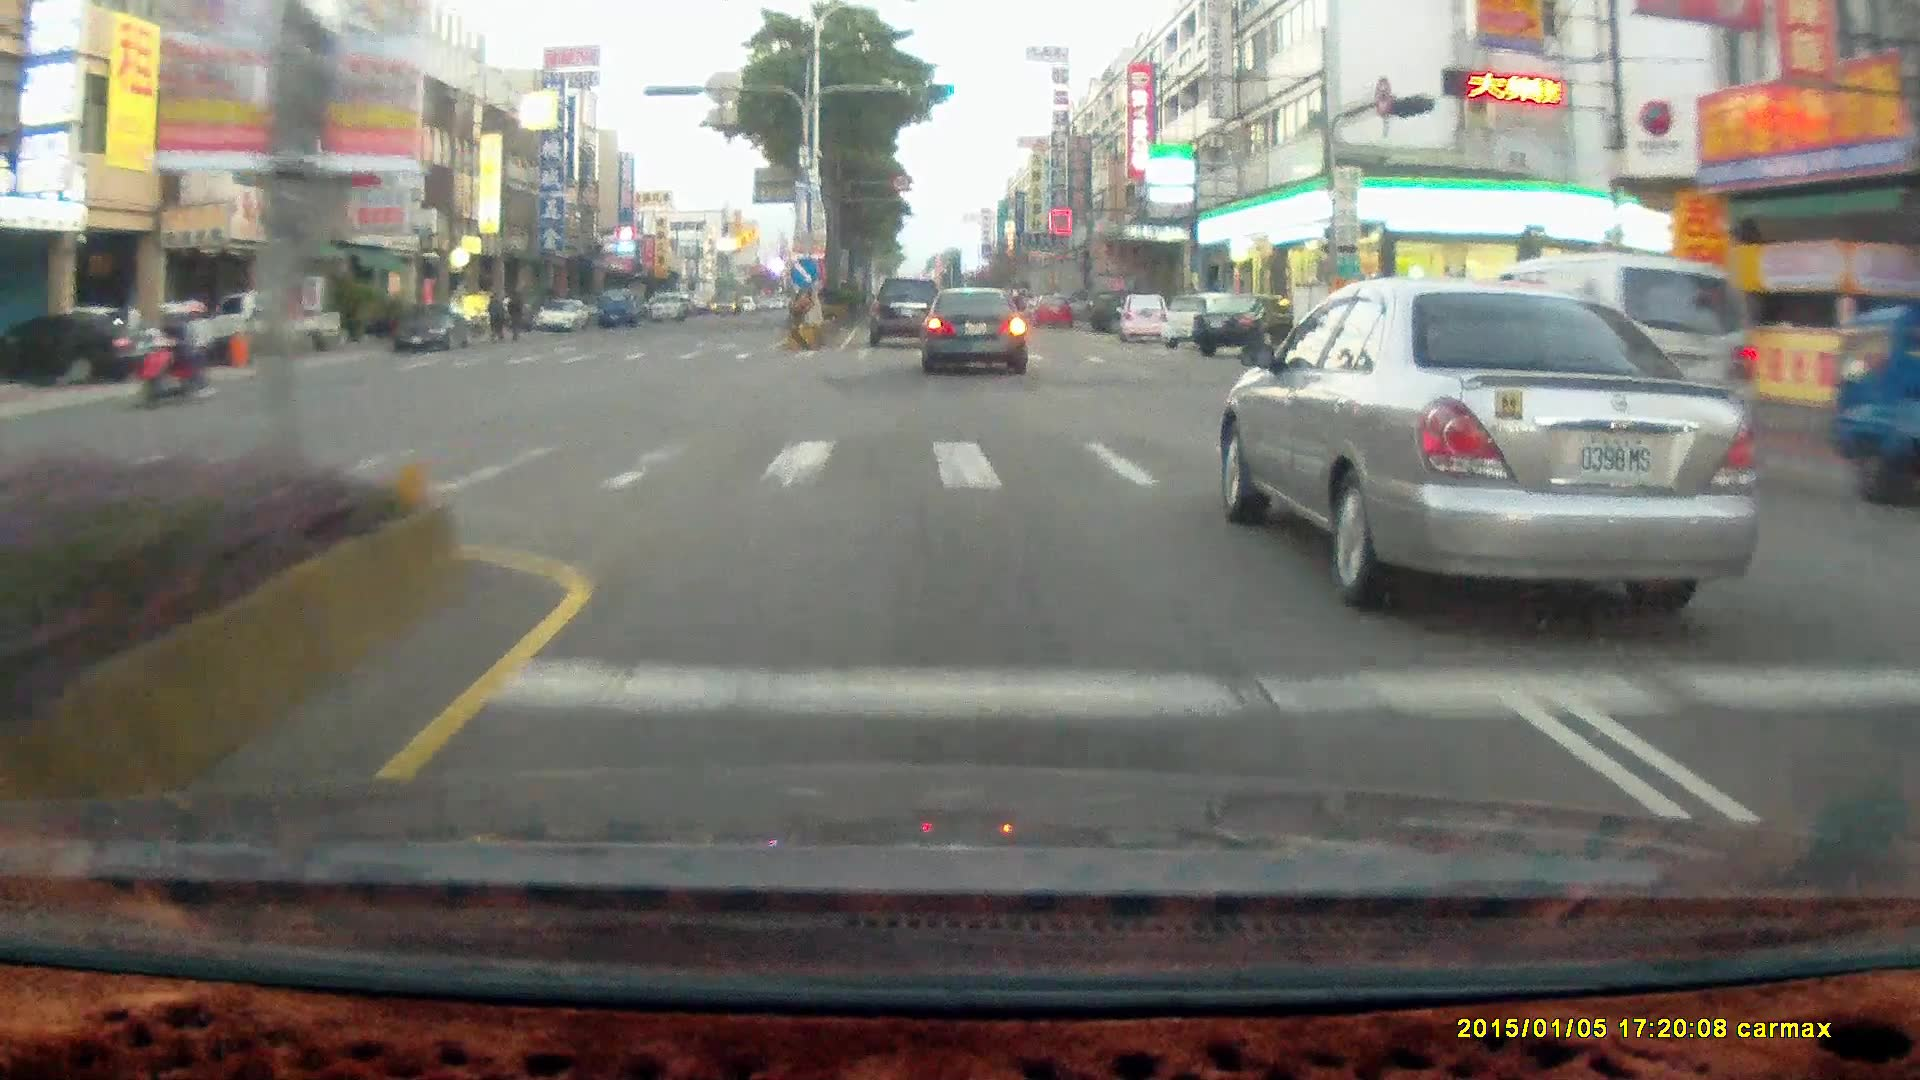pedestrian: (506, 282, 529, 340), (485, 286, 507, 342), (484, 288, 505, 343), (504, 289, 524, 343)
rider: (124, 302, 214, 408)
vehicle: (1222, 282, 1761, 602), (1434, 252, 1762, 485), (1430, 257, 1763, 474), (1831, 308, 1920, 518), (1, 308, 173, 387), (199, 292, 350, 369), (177, 289, 341, 358), (0, 310, 150, 385), (924, 291, 1033, 382), (921, 286, 1026, 376), (1190, 291, 1311, 356), (1192, 295, 1298, 360), (865, 274, 941, 351), (868, 277, 944, 348), (388, 299, 478, 358), (1161, 292, 1249, 350), (394, 307, 470, 351), (1112, 295, 1171, 346), (1087, 289, 1153, 332), (1119, 296, 1174, 348), (533, 299, 592, 335), (533, 299, 586, 332), (596, 289, 634, 326), (1031, 294, 1072, 328), (644, 292, 679, 320)
